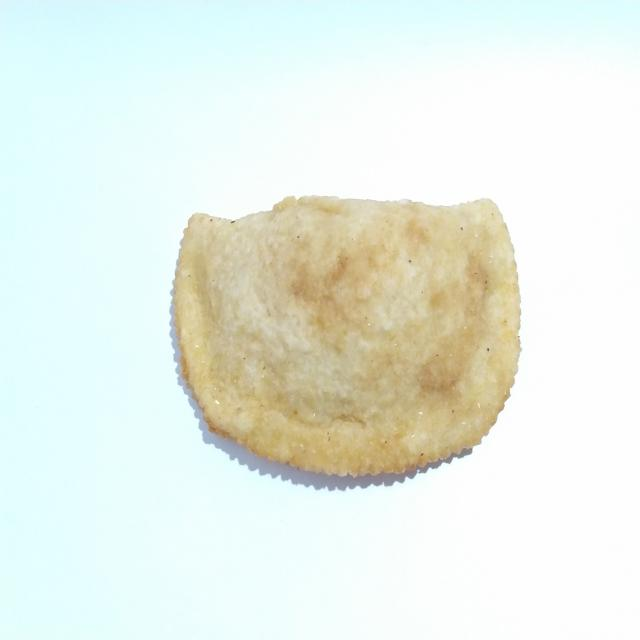Food: (170, 179, 530, 499)
